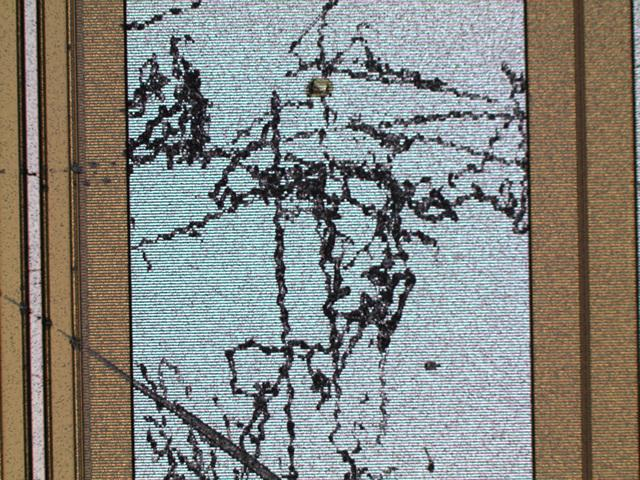SCRATCH: (1, 1, 536, 480)
